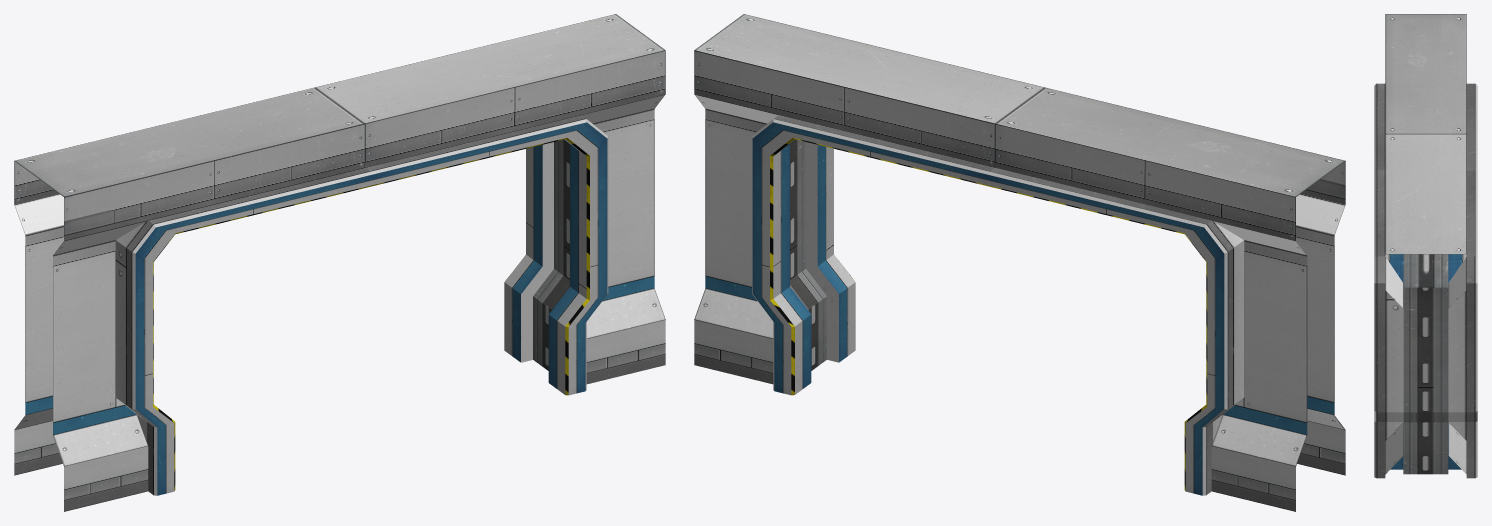
File: Door_Long_01_A.FBX
3 renders of one model, left to right at view 1: azimuth 30°, elevation 25°; view 2: azimuth 150°, elevation 25°; view 3: azimuth 270°, elevation 25°, orthographic. The views are drawn at different scales.
Visible parts, largest first — view 1: Door_Long_01_A; view 2: Door_Long_01_A; view 3: Door_Long_01_A.
Part boxes in pixels (x1,y1,x2,y2): Door_Long_01_A: (14, 14, 665, 511); Door_Long_01_A: (694, 14, 1345, 511); Door_Long_01_A: (1374, 14, 1477, 478).
Size of the model in its own units: 280 by 140 by 50.94.
